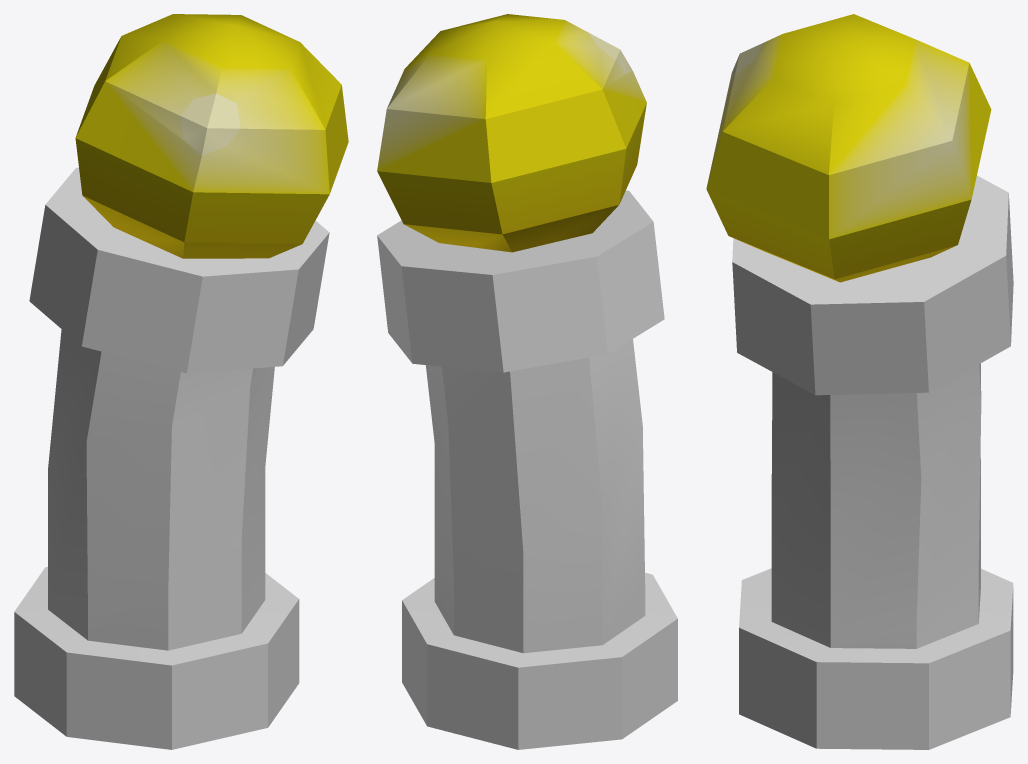
File: HolidaySignPostB.glb
3 views of the same model, side by side, from view 1: azimuth 30°, elevation 25°; view 2: azimuth 150°, elevation 25°; view 3: azimuth 270°, elevation 25° (orthographic). The views are drawn at different scales.
Visible parts, largest first — view 1: HolidaySignPostB; view 2: HolidaySignPostB; view 3: HolidaySignPostB.
Boxes of the visible parts, <box> form: HolidaySignPostB: <box>14,14,348,749</box>; HolidaySignPostB: <box>377,14,677,749</box>; HolidaySignPostB: <box>706,14,1013,749</box>.
Bounding box in the file's own units: 0.482 × 1.07 × 0.4388.
